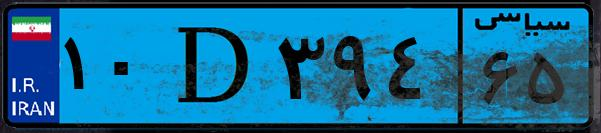0: (110, 28, 158, 98)
1: (57, 26, 110, 100)
3: (270, 28, 330, 110)
4: (385, 28, 445, 110)
5: (525, 38, 570, 115)
6: (475, 38, 525, 113)
9: (330, 28, 385, 110)
D: (158, 12, 270, 120)
